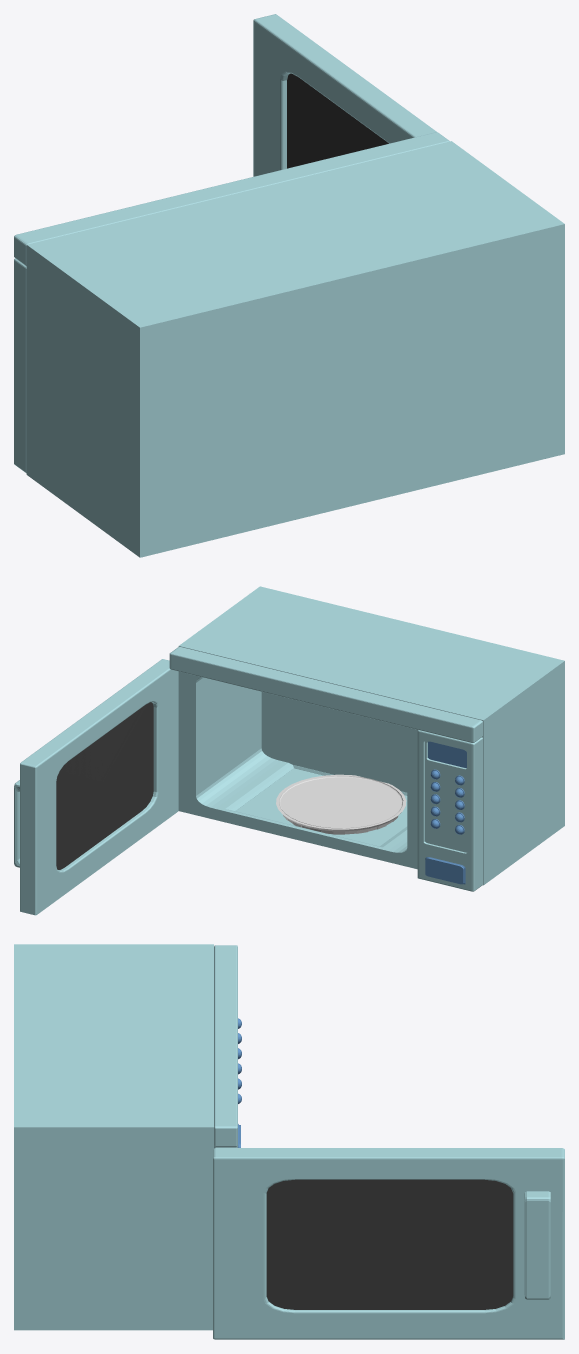
Rendered from MicrovaveColor_EXPORT.fbx.
3 renders of one model, top to bottom at view 1: azimuth 30°, elevation 25°; view 2: azimuth 150°, elevation 25°; view 3: azimuth 270°, elevation 25°, orthographic. The views are drawn at different scales.
Parts seen in each view (by area): view 1: Cube, Cube.002; view 2: Cube, Cube.002, Cube.001, Circle; view 3: Cube, Cube.002.
Part boxes in pixels (left/top/right/bottom): Cube: left=14, top=132, right=564, bottom=557; Cube.002: left=253, top=14, right=437, bottom=176; Cube: left=169, top=586, right=564, bottom=891; Cube.002: left=14, top=659, right=178, bottom=915; Cube.001: left=261, top=692, right=407, bottom=792; Circle: left=276, top=774, right=406, bottom=834; Cube: left=14, top=944, right=241, bottom=1330; Cube.002: left=213, top=1148, right=564, bottom=1339.
Size of the model in its own units: 422 by 200 by 492.
